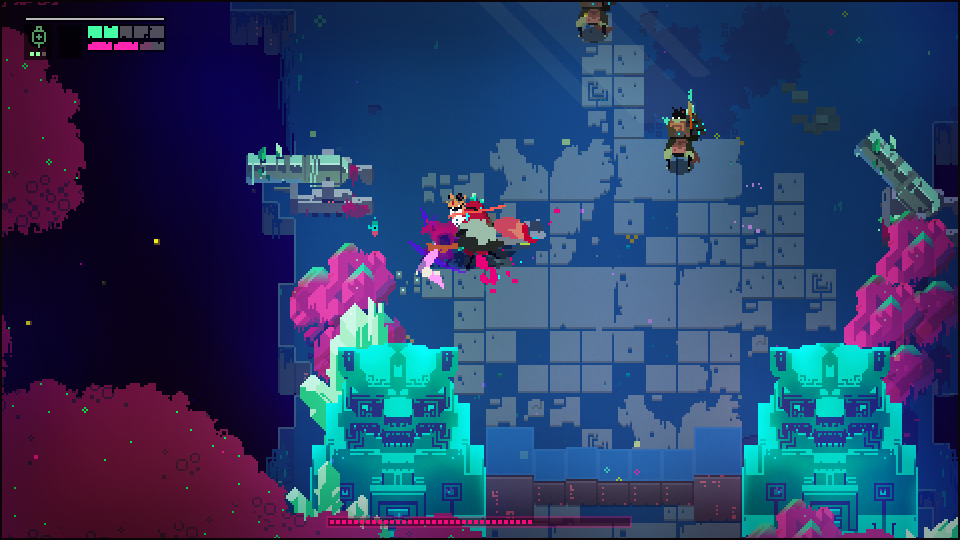hanged_man: (424, 191, 517, 270)
player: (497, 217, 546, 248)
